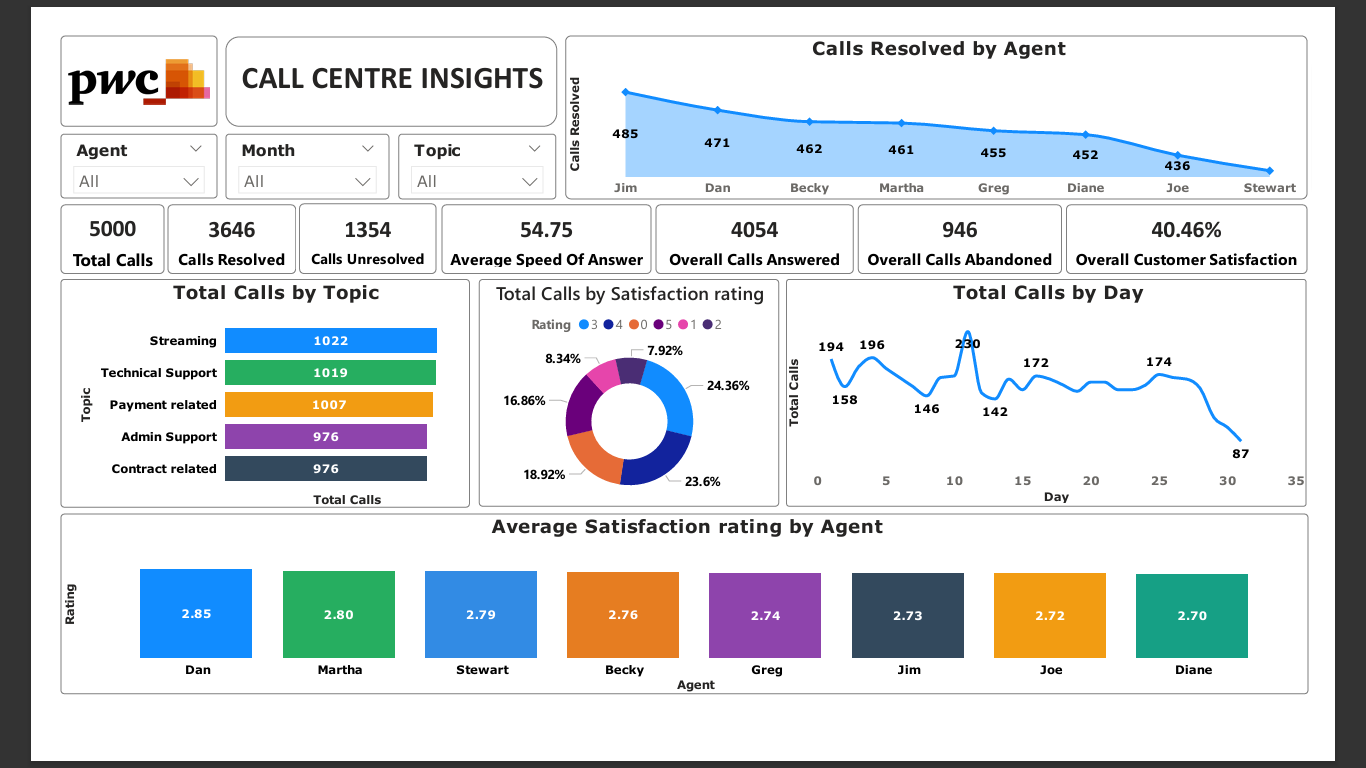

Layout of this report page (visuals, bound fields, positions):
{"tool":"powerbi","page":{"name":"CALL CENTER INSIGHTS","canvas":[1280,720],"ordinal":0},"visuals":[{"type":"card","fields":{"Values":["Table.Overall Customer Satisfaction"]},"box":[1030,176.7,245.6,71.1],"z":0},{"type":"card","fields":{"Values":["Table.Total Calls"]},"box":[5.8,176.7,105.8,71.7],"z":1000},{"type":"card","fields":{"Values":["Table.Average Speed Of Answer"]},"box":[394.2,176.7,213.3,71.7],"z":2000},{"type":"card","fields":{"Values":["Table.Overall Calls Answered"]},"box":[612.2,176.7,201.7,71.7],"z":3000},{"type":"card","fields":{"Values":["Table.Overall Calls Abandoned"]},"box":[818.3,176.7,207.8,71.7],"z":4000},{"type":"image","box":[6,5,160,93],"z":5000},{"type":"slicer","fields":{"Values":["Call Center Trade.Date.Variation.Date Hierarchy.Month"]},"box":[173.6,105,167.7,66.8],"z":6000},{"type":"slicer","fields":{"Values":["Call Center Trade.Agent"]},"box":[5.7,104.9,160.2,66.6],"z":7000},{"type":"slicer","fields":{"Values":["Call Center Trade.Topic"]},"box":[350,105,161.4,67.1],"z":8000},{"type":"card","fields":{"Values":["Table.Calls Resolved"]},"box":[115,176.7,130.8,71.7],"z":9000},{"type":"card","fields":{"Values":["Table.Calls Unresolved"]},"box":[249.4,176.2,140,71.9],"z":10000},{"type":"columnChart","title":"Average Satisfaction rating by Agent","fields":{"Category":["Call Center Trade.Agent"],"Y":["Call Center Trade.Satisfaction rating"]},"box":[5.7,492.1,1271.4,184.3],"z":11000},{"type":"stackedAreaChart","fields":{"Category":["Call Center Trade.Agent"],"Y":["Table.Calls Resolved"]},"box":[520,5.3,756,166.7],"z":12000},{"type":"barChart","fields":{"Category":["Call Center Trade.Topic"],"Y":["Table.Total Calls"]},"box":[5.7,252.9,417.1,232.9],"z":13000},{"type":"lineChart","fields":{"Category":["Call Center Trade.Date.Variation.Date Hierarchy.Day"],"Y":["Table.Total Calls"]},"box":[745.2,253.4,530.1,231.5],"z":14000},{"type":"donutChart","fields":{"Category":["Call Center Trade.Satisfaction rating"],"Y":["Table.Total Calls"]},"box":[431.5,253.4,306.8,231.5],"z":15000},{"type":"textbox","box":[174.3,5.7,337.3,92.1],"z":16000}]}

Visuals, with their boxes in screenshot pixels (x1, y1, x2, y2), scaled from the page's 1280x720 canvas onto the 1366x768 screenshot:
card - Table.Overall Customer Satisfaction: bbox=(1099, 188, 1361, 264)
card - Table.Total Calls: bbox=(6, 188, 119, 265)
card - Table.Average Speed Of Answer: bbox=(421, 188, 648, 265)
card - Table.Overall Calls Answered: bbox=(653, 188, 869, 265)
card - Table.Overall Calls Abandoned: bbox=(873, 188, 1095, 265)
image: bbox=(6, 5, 177, 105)
slicer - Call Center Trade.Date.Variation.Date Hierarchy.Month: bbox=(185, 112, 364, 183)
slicer - Call Center Trade.Agent: bbox=(6, 112, 177, 183)
slicer - Call Center Trade.Topic: bbox=(374, 112, 546, 184)
card - Table.Calls Resolved: bbox=(123, 188, 262, 265)
card - Table.Calls Unresolved: bbox=(266, 188, 416, 265)
"Average Satisfaction rating by Agent" columnChart: bbox=(6, 525, 1363, 721)
stackedAreaChart - Call Center Trade.Agent x Table.Calls Resolved: bbox=(555, 6, 1362, 183)
barChart - Call Center Trade.Topic x Table.Total Calls: bbox=(6, 270, 451, 518)
lineChart - Call Center Trade.Date.Variation.Date Hierarchy.Day x Table.Total Calls: bbox=(795, 270, 1361, 517)
donutChart - Call Center Trade.Satisfaction rating x Table.Total Calls: bbox=(460, 270, 788, 517)
textbox: bbox=(186, 6, 546, 104)
